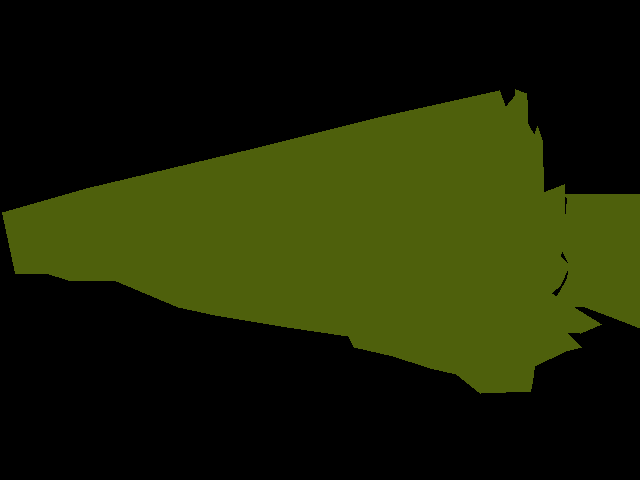Train: (2, 89, 602, 394), (551, 193, 640, 329)
